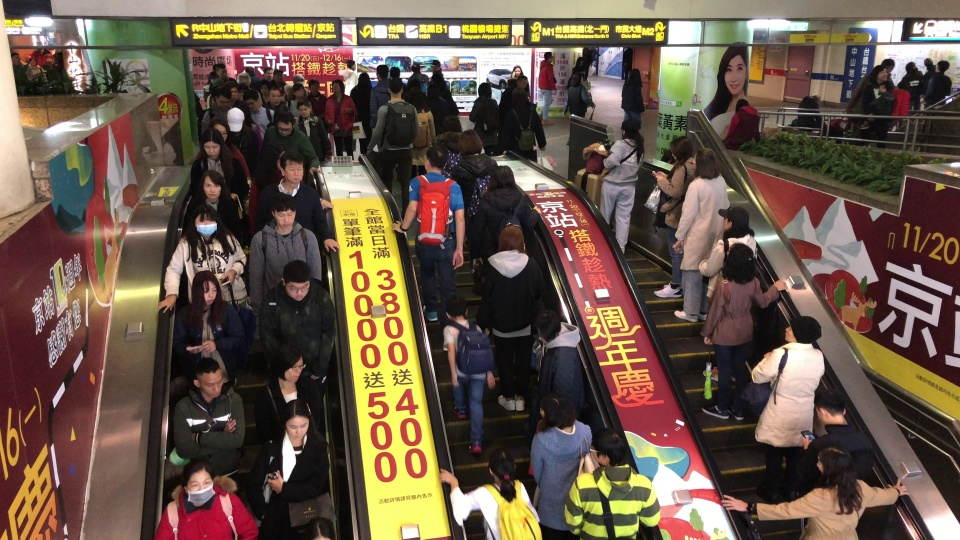person_head: (180, 458, 216, 505), (588, 427, 626, 466), (814, 444, 853, 479), (281, 258, 312, 302), (539, 392, 576, 427), (721, 243, 755, 280), (273, 343, 304, 383), (813, 387, 846, 423), (194, 357, 223, 397), (267, 192, 297, 229), (283, 398, 310, 439), (190, 270, 220, 306), (785, 315, 822, 344), (487, 447, 517, 481), (191, 204, 220, 237), (197, 169, 227, 199), (536, 309, 561, 343), (496, 225, 525, 252), (278, 151, 304, 181), (198, 128, 223, 159), (487, 164, 516, 190), (424, 144, 449, 173), (723, 206, 750, 232), (444, 293, 468, 321), (691, 148, 719, 172), (458, 128, 483, 154), (670, 135, 694, 161), (206, 118, 230, 143), (274, 111, 294, 136), (233, 100, 252, 126), (619, 118, 641, 140), (407, 87, 427, 110), (226, 106, 245, 127), (214, 88, 232, 108), (272, 145, 287, 169), (442, 114, 462, 131), (243, 89, 260, 108), (871, 64, 888, 82), (387, 78, 403, 96), (296, 99, 311, 117), (511, 88, 526, 105), (268, 87, 281, 106), (477, 82, 492, 97), (734, 98, 749, 113), (224, 81, 237, 98), (375, 64, 388, 80), (236, 72, 251, 85), (330, 79, 345, 92), (407, 76, 420, 91), (935, 60, 950, 73), (430, 73, 446, 85), (628, 67, 641, 81), (881, 58, 894, 72), (292, 82, 304, 97), (358, 72, 371, 85), (216, 64, 228, 78), (307, 78, 320, 90), (293, 73, 304, 86), (570, 72, 581, 85), (897, 79, 910, 90), (237, 84, 247, 98), (517, 75, 527, 89), (208, 71, 219, 83), (345, 59, 356, 71), (389, 66, 400, 78), (429, 59, 440, 71), (263, 66, 273, 79), (273, 68, 283, 81), (260, 80, 269, 94), (284, 82, 292, 97), (11, 51, 20, 64), (543, 51, 553, 62), (513, 64, 522, 76), (410, 62, 420, 72), (45, 53, 53, 63), (245, 66, 255, 74), (29, 57, 37, 66), (812, 93, 820, 102), (576, 56, 583, 66), (910, 67, 917, 74)
person_vbox: (720, 444, 909, 540), (699, 242, 788, 422), (750, 315, 825, 501), (390, 144, 465, 327), (475, 225, 545, 413), (800, 387, 874, 536), (564, 427, 661, 540), (254, 398, 331, 539), (671, 147, 730, 323), (438, 446, 543, 540), (154, 203, 248, 307), (172, 270, 248, 391), (248, 192, 322, 316), (530, 391, 592, 537), (523, 308, 586, 449), (172, 356, 245, 477), (442, 293, 496, 455), (255, 151, 340, 252), (154, 458, 258, 540), (247, 145, 335, 239), (468, 165, 542, 267), (651, 135, 697, 299), (366, 78, 419, 220), (253, 343, 322, 442), (599, 117, 645, 256), (698, 206, 758, 297), (189, 128, 250, 202), (450, 128, 497, 218), (184, 170, 240, 236), (265, 117, 324, 176), (194, 118, 249, 180), (501, 88, 547, 162), (846, 58, 894, 122), (406, 87, 436, 177), (324, 79, 357, 160), (561, 72, 595, 146), (295, 98, 331, 161), (721, 97, 761, 149), (468, 82, 499, 148), (225, 106, 259, 166), (348, 71, 371, 154), (433, 114, 462, 177), (426, 73, 461, 117), (243, 90, 274, 138), (620, 66, 646, 123), (537, 51, 557, 125), (922, 60, 952, 109), (369, 64, 390, 126), (861, 65, 888, 113), (201, 88, 231, 131), (797, 93, 823, 130), (285, 82, 312, 117), (891, 79, 910, 122), (508, 64, 530, 97), (307, 78, 327, 114), (262, 87, 288, 114), (338, 60, 357, 96), (11, 51, 32, 78), (566, 55, 584, 86), (407, 62, 428, 88), (906, 67, 920, 103), (40, 54, 59, 80), (30, 48, 52, 67), (29, 57, 46, 80), (582, 47, 593, 80), (259, 66, 274, 85)
